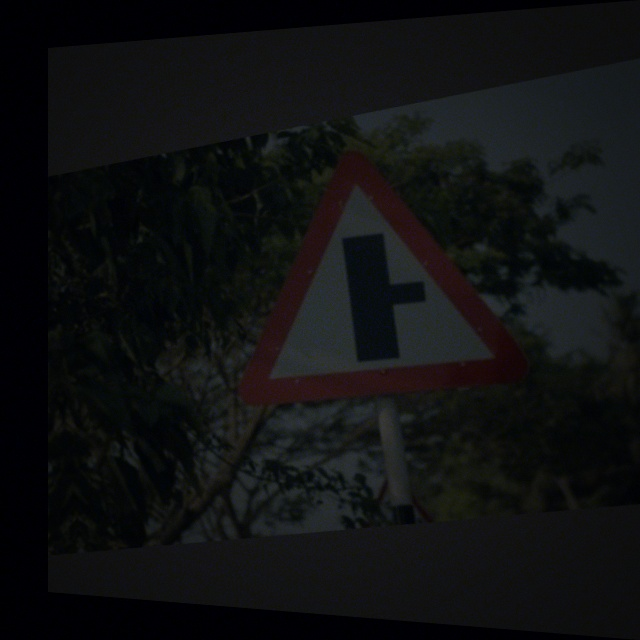Side_Road_Right: (223, 126, 526, 422)
